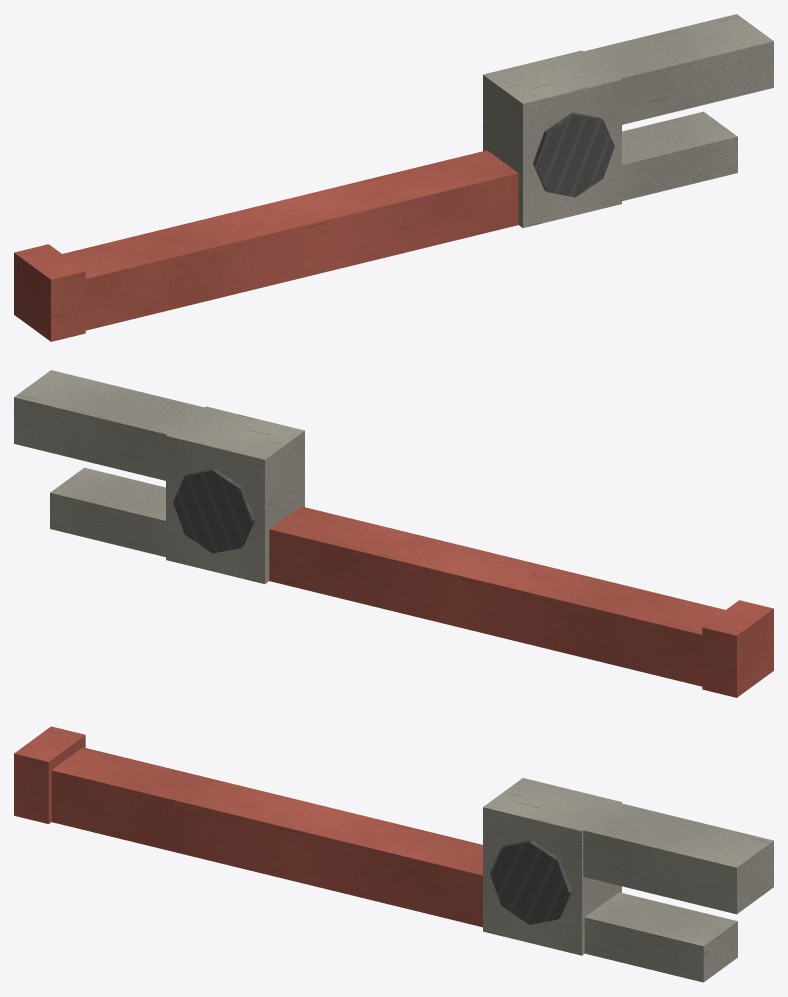
Rendered from wrench_v2.glb.
3 views of the same model, one above another, from view 1: azimuth 30°, elevation 25°; view 2: azimuth 150°, elevation 25°; view 3: azimuth 330°, elevation 25° (orthographic).
Visible parts, largest first — view 1: Variant_wrench_2; view 2: Variant_wrench_2; view 3: Variant_wrench_2.
Boxes of the visible parts, x1,y1,x2,y2 form: Variant_wrench_2: [14, 14, 773, 341]; Variant_wrench_2: [14, 370, 773, 697]; Variant_wrench_2: [14, 726, 773, 982].
Size of the model in its own units: 0.292 by 0.048 by 0.032.
Materials: 3 (3 with a texture image).
